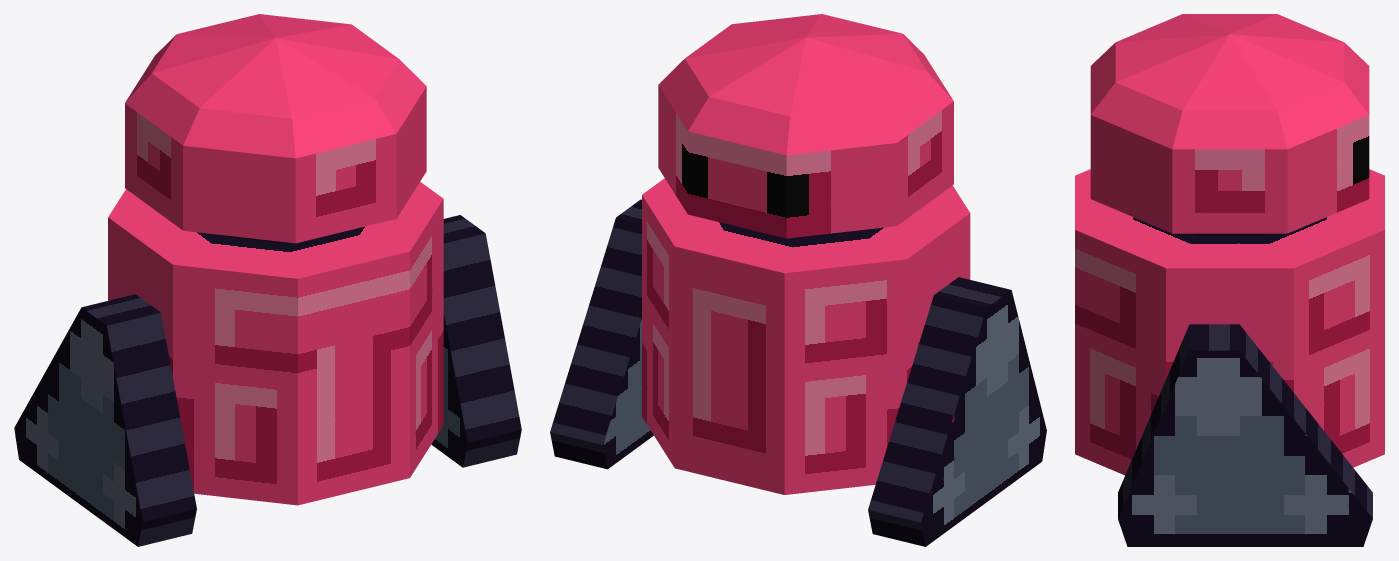
The model's file is SDE_player_model.fbx.
3 renders of one model, left to right at view 1: azimuth 30°, elevation 25°; view 2: azimuth 150°, elevation 25°; view 3: azimuth 270°, elevation 25°, orthographic. The views are drawn at different scales.
Parts seen in each view (by area): view 1: cylinder, cylinder_1, cylinder_2, cylinder_3; view 2: cylinder, cylinder_1, cylinder_2, cylinder_3; view 3: cylinder, cylinder_1, cylinder_3.
Part boxes in pixels (x1,y1,x2,y2): cylinder: (108,181,443,505); cylinder_1: (125,14,426,243); cylinder_2: (14,294,196,546); cylinder_3: (431,215,521,467); cylinder: (642,178,970,494); cylinder_1: (658,14,953,238); cylinder_2: (868,277,1046,546); cylinder_3: (550,199,653,469); cylinder: (1075,169,1384,475); cylinder_1: (1090,14,1369,233); cylinder_3: (1118,324,1372,546).
Size of the model in its own units: 1400 by 1500 by 1000.
Materials: 1 (1 with a texture image).
